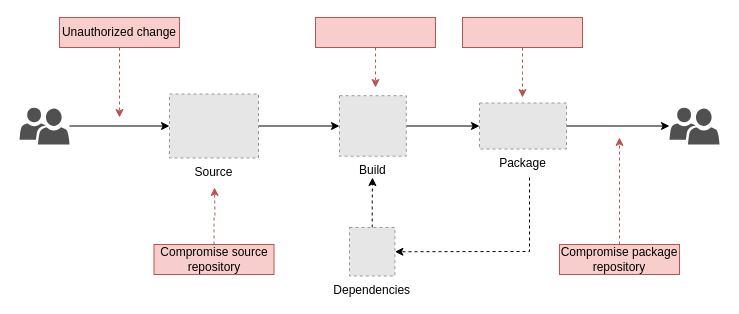
Image size: 739x314. Some labels were removed from this diagram. Grey dashed boxes stand in for pictures. Here are the shapes that lost their labels. From the top down, the centre of each, then its label:
(x=375, y=32): Compromise build process
(x=522, y=32): Package modification
(x=44, y=125): Developer
(x=694, y=125): Consumer
